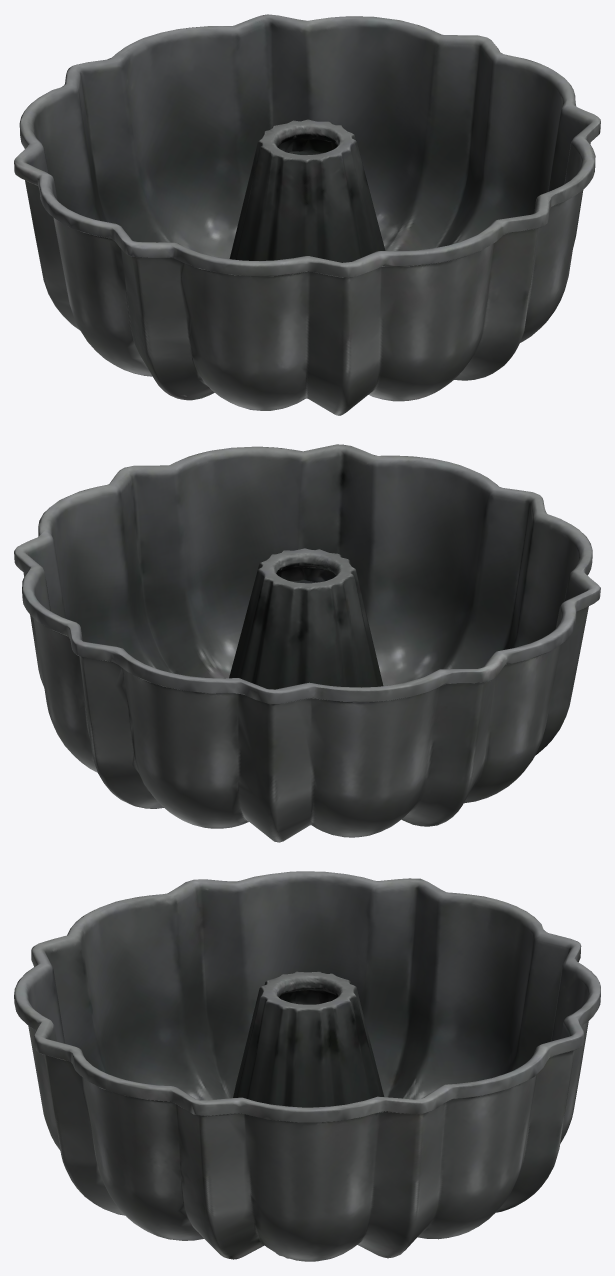
The model's file is Nordic_Ware_Original_Bundt_Pan.glb.
The picture shows the model from 3 angles, top to bottom: view 1: azimuth 30°, elevation 25°; view 2: azimuth 150°, elevation 25°; view 3: azimuth 270°, elevation 25°; orthographic projection.
Visible parts, largest first — view 1: model.obj; view 2: model.obj; view 3: model.obj.
Boxes of the visible parts, x1=… form: model.obj: x1=14, y1=14, x2=600, y2=415; model.obj: x1=14, y1=444, x2=600, y2=842; model.obj: x1=14, y1=871, x2=600, y2=1261.
Bounding box in the file's own units: 1 × 0.3789 × 0.9984.
Materials: 1 (1 with a texture image).
